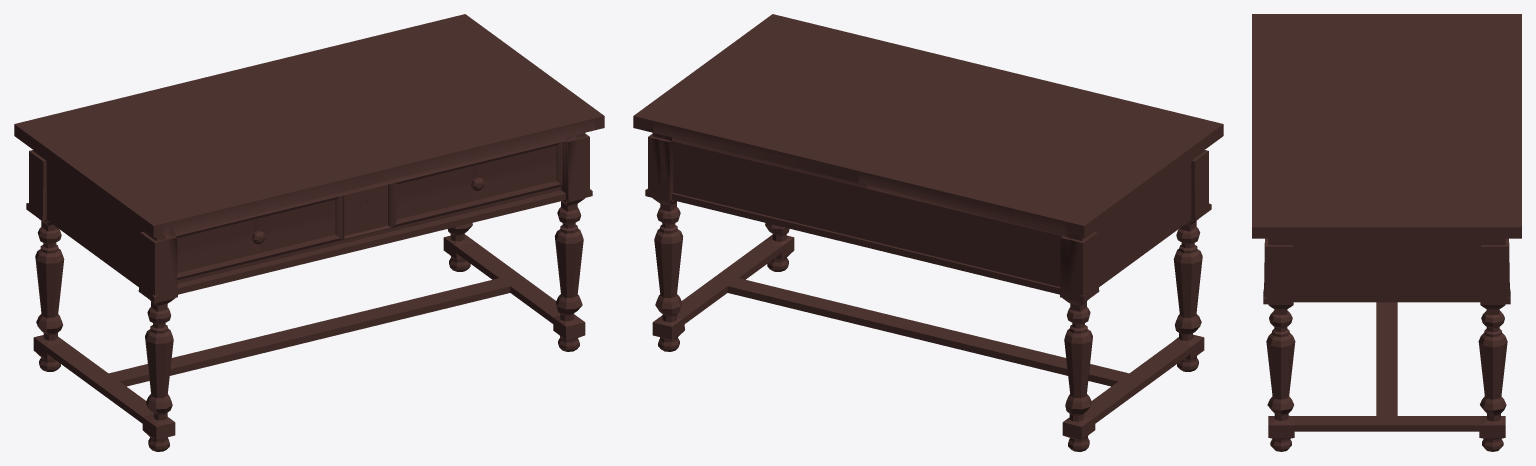
File: mesa2.fbx
The picture shows the model from 3 angles, left to right: view 1: azimuth 30°, elevation 25°; view 2: azimuth 150°, elevation 25°; view 3: azimuth 270°, elevation 25°; orthographic projection. The views are drawn at different scales.
Parts seen in each view (by area): view 1: DESK; view 2: DESK; view 3: DESK.
Part boxes in pixels (<box>): DESK: <box>14,14,604,451</box>; DESK: <box>633,14,1223,451</box>; DESK: <box>1252,14,1521,451</box>.
Bounding box in the file's own units: 296 × 150 × 158.
